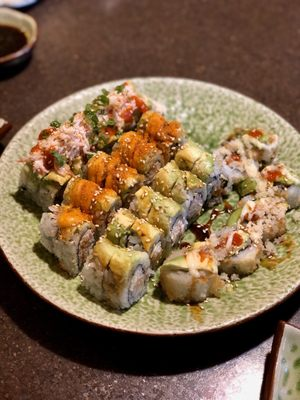sushi: (0, 6, 38, 81)
